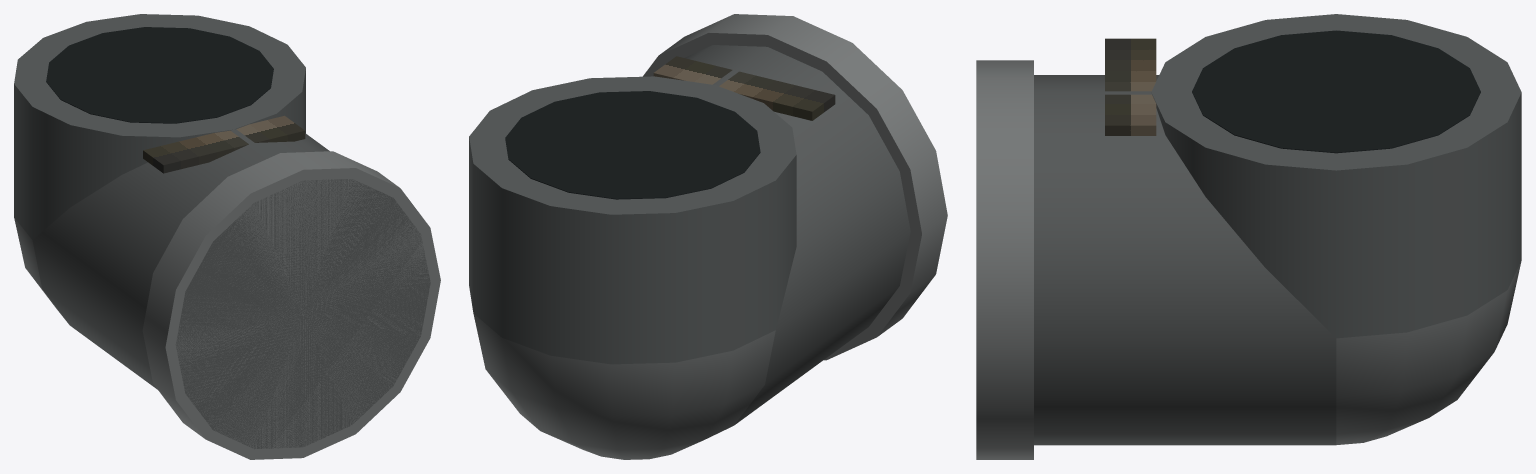
File: CMU3DReduxDisposalTrunkLoose.glb
3 renders of one model, left to right at view 1: azimuth 30°, elevation 25°; view 2: azimuth 150°, elevation 25°; view 3: azimuth 270°, elevation 25°, orthographic. The views are drawn at different scales.
Visible parts, largest first — view 1: round S barrel, S coupling, upright trunk throat, dark throat recess, source routing plate, curved closed junction; view 2: upright trunk throat, round S barrel, curved closed junction, dark throat recess, S coupling, source routing plate; view 3: round S barrel, upright trunk throat, dark throat recess, S coupling, curved closed junction, source routing plate.
Part boxes in pixels (x1,y1,x2,y2): round S barrel: (32, 129, 430, 449); S coupling: (142, 151, 440, 459); upright trunk throat: (14, 14, 305, 239); dark throat recess: (46, 27, 273, 123); source routing plate: (143, 115, 305, 173); curved closed junction: (14, 217, 67, 322); upright trunk throat: (469, 76, 796, 364); round S barrel: (653, 45, 910, 424); curved closed junction: (473, 313, 775, 459); dark throat recess: (505, 91, 760, 199); S coupling: (643, 14, 947, 360); source routing plate: (653, 56, 835, 120); round S barrel: (1034, 75, 1336, 445); upright trunk throat: (1151, 14, 1521, 338); dark throat recess: (1192, 30, 1480, 153); S coupling: (976, 60, 1033, 459); curved closed junction: (1336, 261, 1521, 444); source routing plate: (1105, 38, 1156, 135).
Size of the model in its own units: 0.486 by 0.486 by 0.6625.
6 materials, 1 textured.
